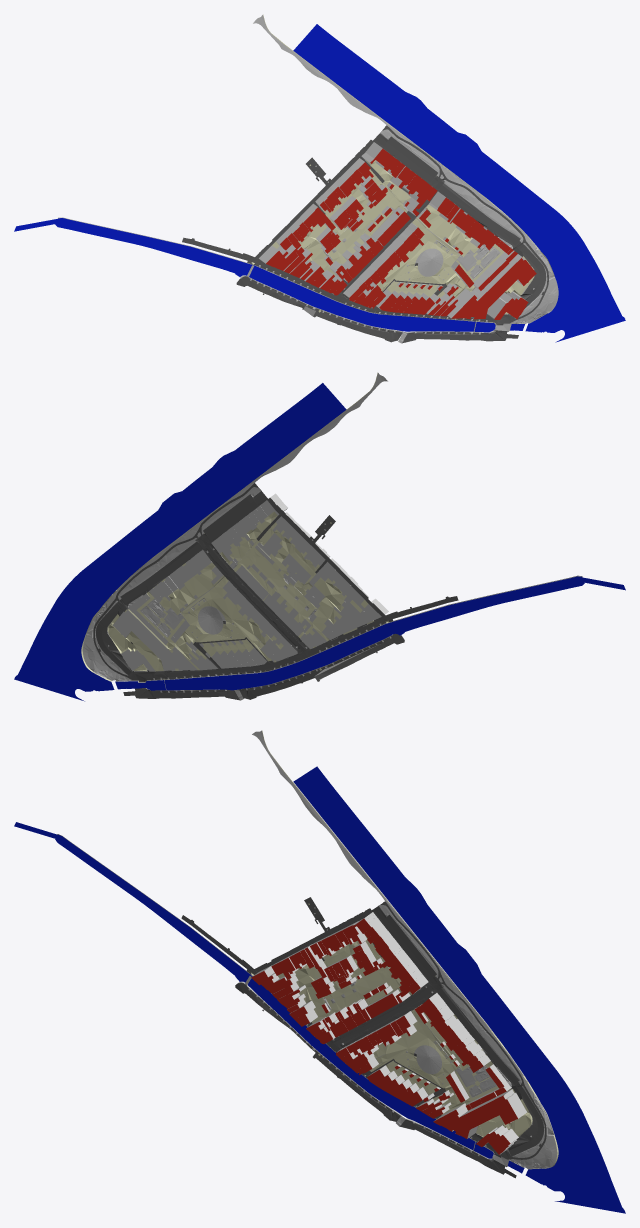
The model's file is tinsimp_05.obj.
The picture shows the model from 3 angles, top to bottom: view 1: azimuth 30°, elevation 25°; view 2: azimuth 150°, elevation 25°; view 3: azimuth 330°, elevation 25°; orthographic projection.
Visible parts, largest first — view 1: b69a8d7bc-2d38-11e6-9a38-393caa90be70, bedab6302-00c8-11e6-b420-2bdcc4ab5d7f, b1105d28c-00ba-11e6-b420-2bdcc4ab5d7f, b2c160b4d-2d29-11e6-9a38-393caa90be70, b492abedc-00b4-11e6-b420-2bdcc4ab5d7f, b983a1b0d-00c9-11e6-b420-2bdcc4ab5d7f, b221e7287-00b5-11e6-b420-2bdcc4ab5d7f, b4138231e-00b4-11e6-b420-2bdcc4ab5d7f, b984231ca-00c9-11e6-b420-2bdcc4ab5d7f, b31be22bd-00ba-11e6-b420-2bdcc4ab5d7f, baef3f9c3-00c9-11e6-b420-2bdcc4ab5d7f, b1128007f-00ba-11e6-b420-2bdcc4ab5d7f (+10 smaller); view 2: b69a8d7bc-2d38-11e6-9a38-393caa90be70, bedab6302-00c8-11e6-b420-2bdcc4ab5d7f, b1105d28c-00ba-11e6-b420-2bdcc4ab5d7f, b2c160b4d-2d29-11e6-9a38-393caa90be70, b492abedc-00b4-11e6-b420-2bdcc4ab5d7f, b221e7287-00b5-11e6-b420-2bdcc4ab5d7f, b983a1b0d-00c9-11e6-b420-2bdcc4ab5d7f, b4138231e-00b4-11e6-b420-2bdcc4ab5d7f, b2223065e-00b5-11e6-b420-2bdcc4ab5d7f, b4931c302-00b4-11e6-b420-2bdcc4ab5d7f, b22250278-00b5-11e6-b420-2bdcc4ab5d7f, b984231ca-00c9-11e6-b420-2bdcc4ab5d7f (+14 smaller); view 3: b69a8d7bc-2d38-11e6-9a38-393caa90be70, bedab6302-00c8-11e6-b420-2bdcc4ab5d7f, b1105d28c-00ba-11e6-b420-2bdcc4ab5d7f, b2c160b4d-2d29-11e6-9a38-393caa90be70, b492abedc-00b4-11e6-b420-2bdcc4ab5d7f, b4138231e-00b4-11e6-b420-2bdcc4ab5d7f, b983a1b0d-00c9-11e6-b420-2bdcc4ab5d7f, b82575848-2d29-11e6-9a38-393caa90be70, b4931c302-00b4-11e6-b420-2bdcc4ab5d7f, b2223065e-00b5-11e6-b420-2bdcc4ab5d7f, baef3f9c3-00c9-11e6-b420-2bdcc4ab5d7f, b31be22bd-00ba-11e6-b420-2bdcc4ab5d7f.
Part boxes in pixels (bbox=[...]): b69a8d7bc-2d38-11e6-9a38-393caa90be70: bbox=[293, 24, 625, 342]; bedab6302-00c8-11e6-b420-2bdcc4ab5d7f: bbox=[14, 218, 475, 331]; b1105d28c-00ba-11e6-b420-2bdcc4ab5d7f: bbox=[447, 254, 536, 319]; b2c160b4d-2d29-11e6-9a38-393caa90be70: bbox=[253, 15, 534, 248]; b492abedc-00b4-11e6-b420-2bdcc4ab5d7f: bbox=[381, 222, 458, 291]; b983a1b0d-00c9-11e6-b420-2bdcc4ab5d7f: bbox=[255, 140, 384, 258]; b221e7287-00b5-11e6-b420-2bdcc4ab5d7f: bbox=[416, 204, 478, 257]; b4138231e-00b4-11e6-b420-2bdcc4ab5d7f: bbox=[322, 182, 407, 273]; b984231ca-00c9-11e6-b420-2bdcc4ab5d7f: bbox=[182, 237, 334, 298]; b31be22bd-00ba-11e6-b420-2bdcc4ab5d7f: bbox=[487, 291, 528, 319]; baef3f9c3-00c9-11e6-b420-2bdcc4ab5d7f: bbox=[404, 331, 518, 342]; b1128007f-00ba-11e6-b420-2bdcc4ab5d7f: bbox=[372, 207, 410, 246]; b69a8d7bc-2d38-11e6-9a38-393caa90be70: bbox=[14, 383, 346, 701]; bedab6302-00c8-11e6-b420-2bdcc4ab5d7f: bbox=[164, 576, 625, 690]; b1105d28c-00ba-11e6-b420-2bdcc4ab5d7f: bbox=[113, 609, 197, 671]; b2c160b4d-2d29-11e6-9a38-393caa90be70: bbox=[106, 373, 387, 606]; b492abedc-00b4-11e6-b420-2bdcc4ab5d7f: bbox=[182, 580, 271, 661]; b221e7287-00b5-11e6-b420-2bdcc4ab5d7f: bbox=[159, 563, 223, 614]; b983a1b0d-00c9-11e6-b420-2bdcc4ab5d7f: bbox=[256, 498, 385, 616]; b4138231e-00b4-11e6-b420-2bdcc4ab5d7f: bbox=[233, 540, 329, 641]; b2223065e-00b5-11e6-b420-2bdcc4ab5d7f: bbox=[312, 577, 346, 631]; b4931c302-00b4-11e6-b420-2bdcc4ab5d7f: bbox=[212, 588, 276, 648]; b22250278-00b5-11e6-b420-2bdcc4ab5d7f: bbox=[255, 528, 319, 575]; b984231ca-00c9-11e6-b420-2bdcc4ab5d7f: bbox=[304, 596, 458, 657]; b69a8d7bc-2d38-11e6-9a38-393caa90be70: bbox=[293, 766, 625, 1213]; bedab6302-00c8-11e6-b420-2bdcc4ab5d7f: bbox=[14, 822, 474, 1149]; b1105d28c-00ba-11e6-b420-2bdcc4ab5d7f: bbox=[433, 1089, 526, 1138]; b2c160b4d-2d29-11e6-9a38-393caa90be70: bbox=[252, 730, 533, 1096]; b492abedc-00b4-11e6-b420-2bdcc4ab5d7f: bbox=[369, 1014, 457, 1088]; b4138231e-00b4-11e6-b420-2bdcc4ab5d7f: bbox=[311, 957, 401, 1023]; b983a1b0d-00c9-11e6-b420-2bdcc4ab5d7f: bbox=[254, 897, 381, 972]; b82575848-2d29-11e6-9a38-393caa90be70: bbox=[262, 730, 554, 1134]; b4931c302-00b4-11e6-b420-2bdcc4ab5d7f: bbox=[373, 1021, 427, 1063]; b2223065e-00b5-11e6-b420-2bdcc4ab5d7f: bbox=[295, 964, 325, 1016]; baef3f9c3-00c9-11e6-b420-2bdcc4ab5d7f: bbox=[401, 1120, 516, 1178]; b31be22bd-00ba-11e6-b420-2bdcc4ab5d7f: bbox=[476, 1125, 518, 1154].
Size of the model in its own units: 524 by 328 by 28.8.
